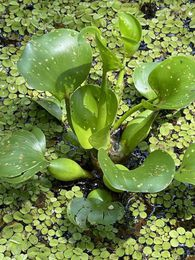water_hyacinth: (1, 13, 193, 222)
